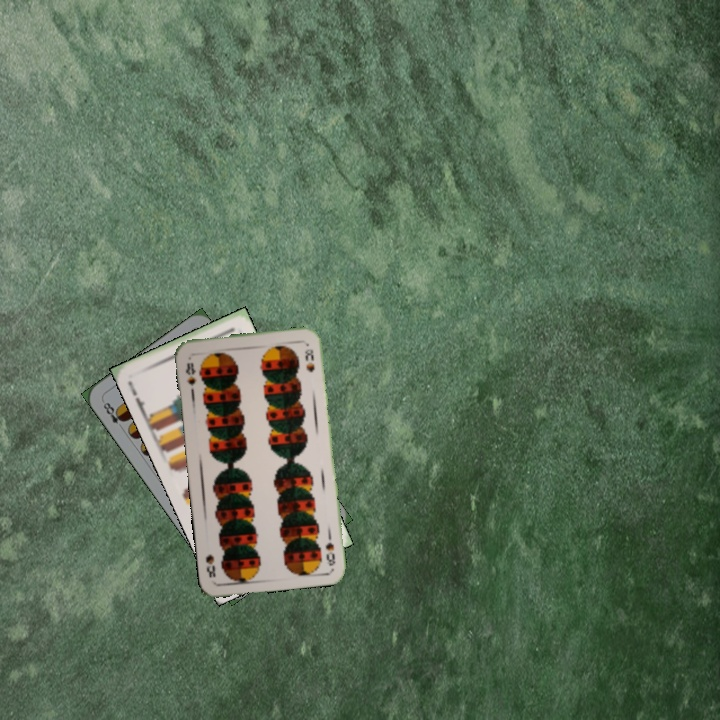E7: (124, 377, 147, 415)
E8: (98, 396, 128, 432)
S8: (321, 528, 338, 568), (182, 359, 199, 388)
